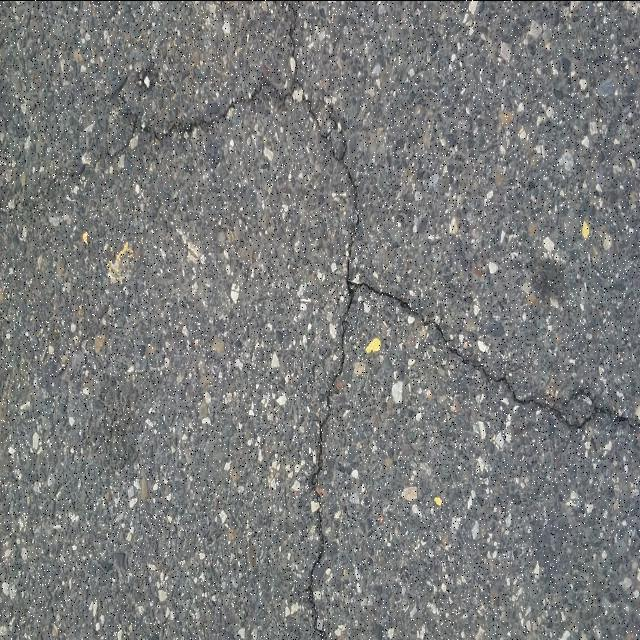Crack: (53, 0, 640, 640)
